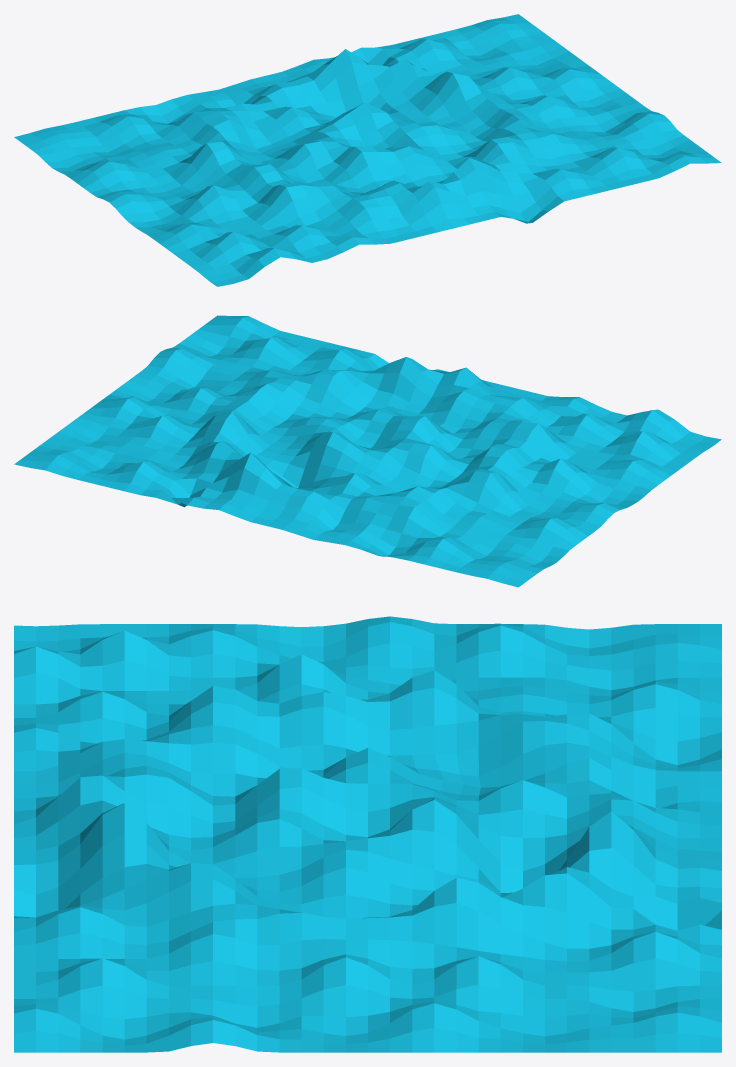
Rendered from testwater.fbx.
3 renders of one model, top to bottom at view 1: azimuth 30°, elevation 25°; view 2: azimuth 150°, elevation 25°; view 3: azimuth 270°, elevation 25°, orthographic. The views are drawn at different scales.
Parts seen in each view (by area): view 1: Plane; view 2: Plane; view 3: Plane.
Boxes of the visible parts, x1,y1,x2,y2 form: Plane: (14,14,721,286); Plane: (14,315,721,587); Plane: (14,616,721,1052).
Size of the model in its own units: 1612 by 188 by 1126.
